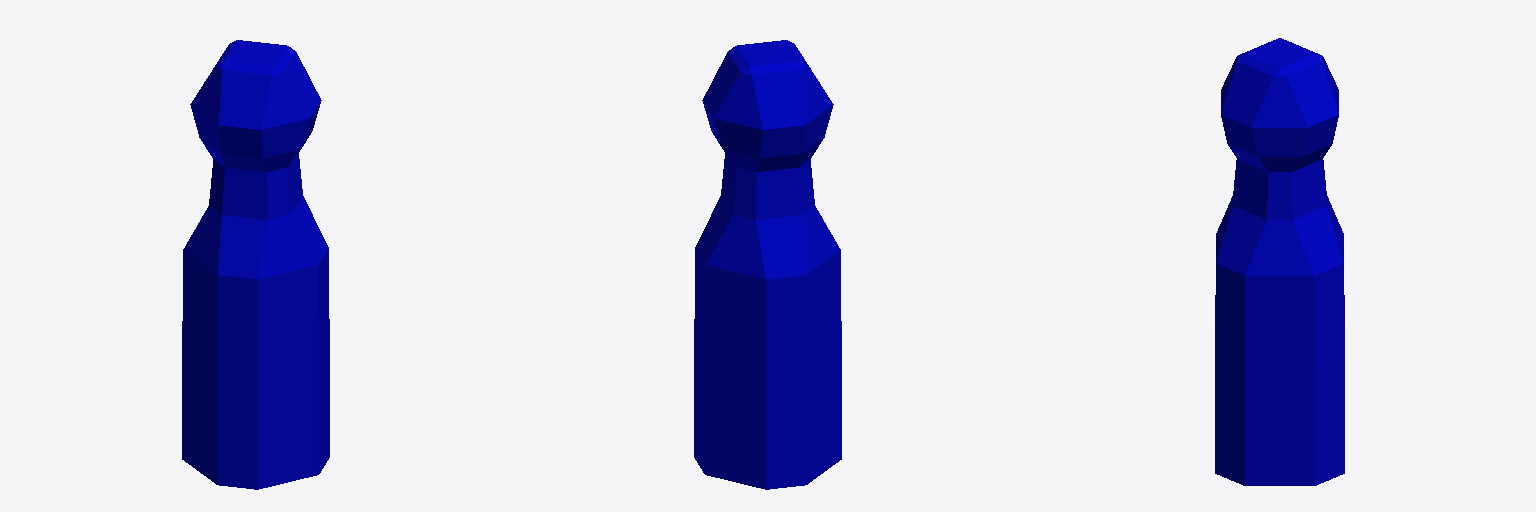
The model's file is BluePiece3.obj.
3 views of the same model, side by side, from view 1: azimuth 30°, elevation 25°; view 2: azimuth 150°, elevation 25°; view 3: azimuth 270°, elevation 25° (orthographic).
Parts seen in each view (by area): view 1: Cube; view 2: Cube; view 3: Cube.
Boxes of the visible parts, box(x1,y1,x2,y2) form: Cube: box(182, 40, 329, 489); Cube: box(694, 40, 841, 489); Cube: box(1215, 38, 1344, 485).
Size of the model in its own units: 0.2053 by 0.7094 by 0.2053.